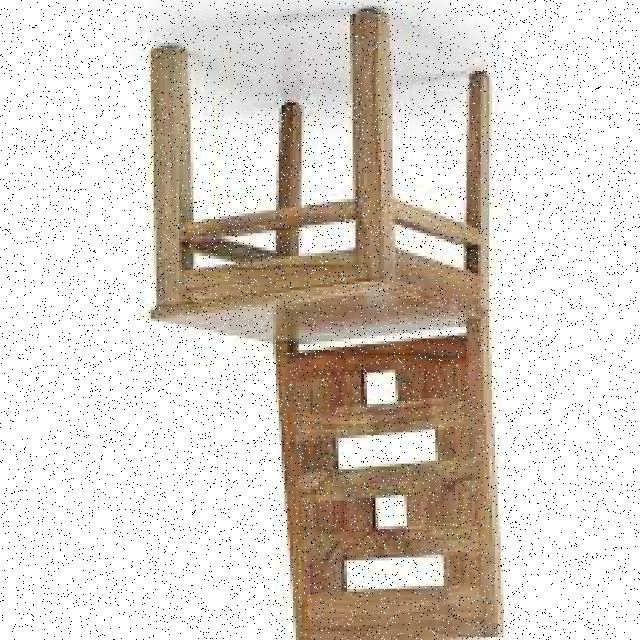bottle: (141, 9, 511, 640)
